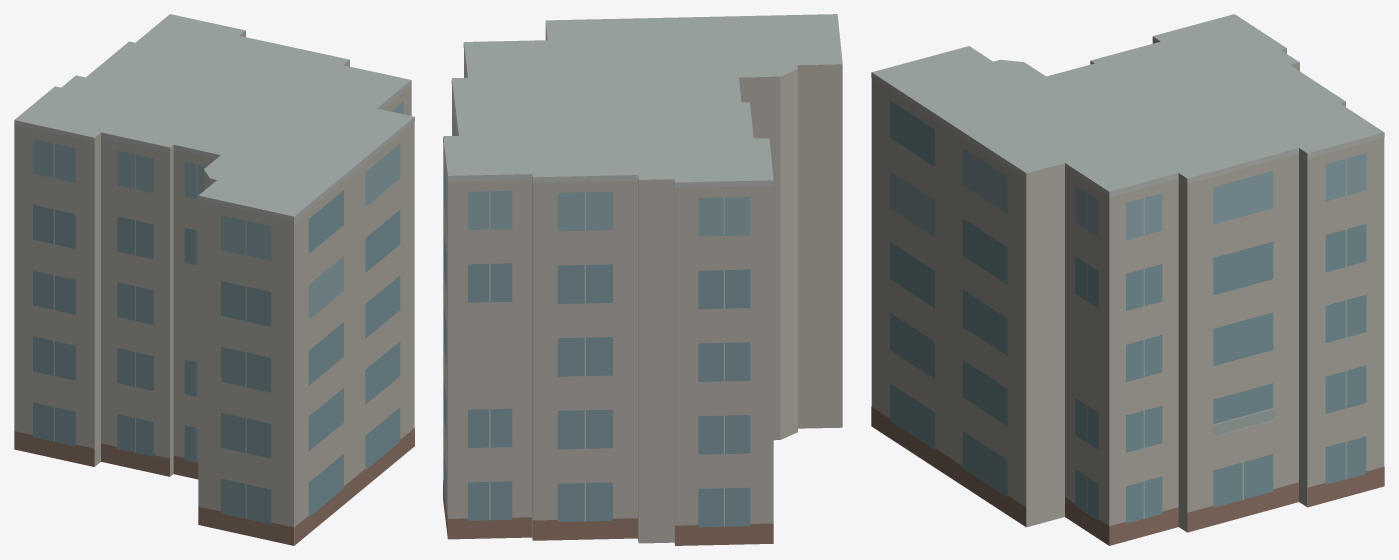
The model's file is survey-upis-32513009.glb.
3 views of the same model, side by side, from view 1: azimuth 30°, elevation 25°; view 2: azimuth 150°, elevation 25°; view 3: azimuth 270°, elevation 25° (orthographic). The views are drawn at different scales.
Visible parts, largest first — view 1: survey-upis-32513009.tmp; view 2: survey-upis-32513009.tmp; view 3: survey-upis-32513009.tmp.
Part boxes in pixels (x1,y1,x2,y2): survey-upis-32513009.tmp: (14,14,414,545); survey-upis-32513009.tmp: (443,14,842,545); survey-upis-32513009.tmp: (871,14,1384,545).
Bounding box in the file's own units: 16.8 × 15.58 × 20.46.
